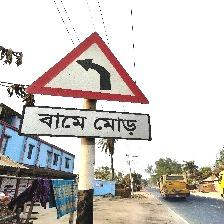Left-Turn: (21, 32, 152, 140)
